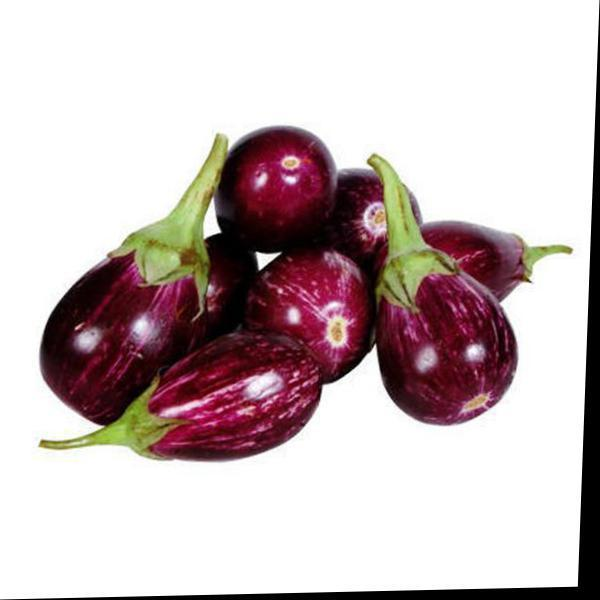eggplant: (20, 73, 583, 540), (31, 324, 370, 492), (366, 204, 538, 444), (185, 105, 368, 266)
